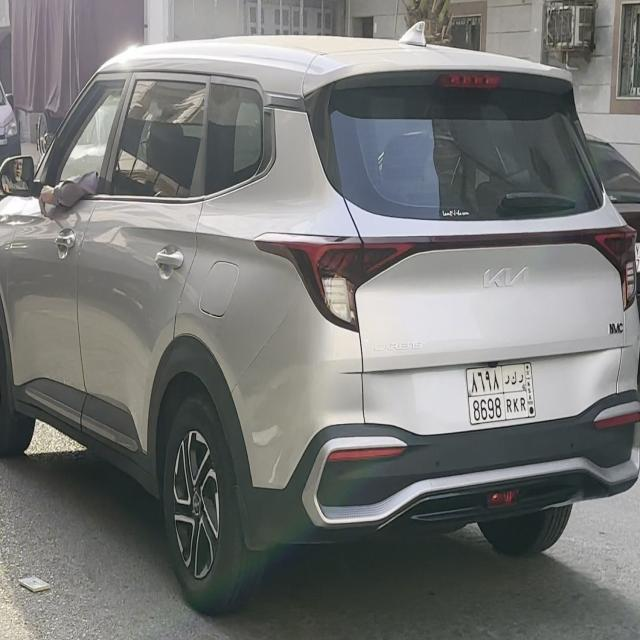Car-plate: (460, 356, 541, 435)
